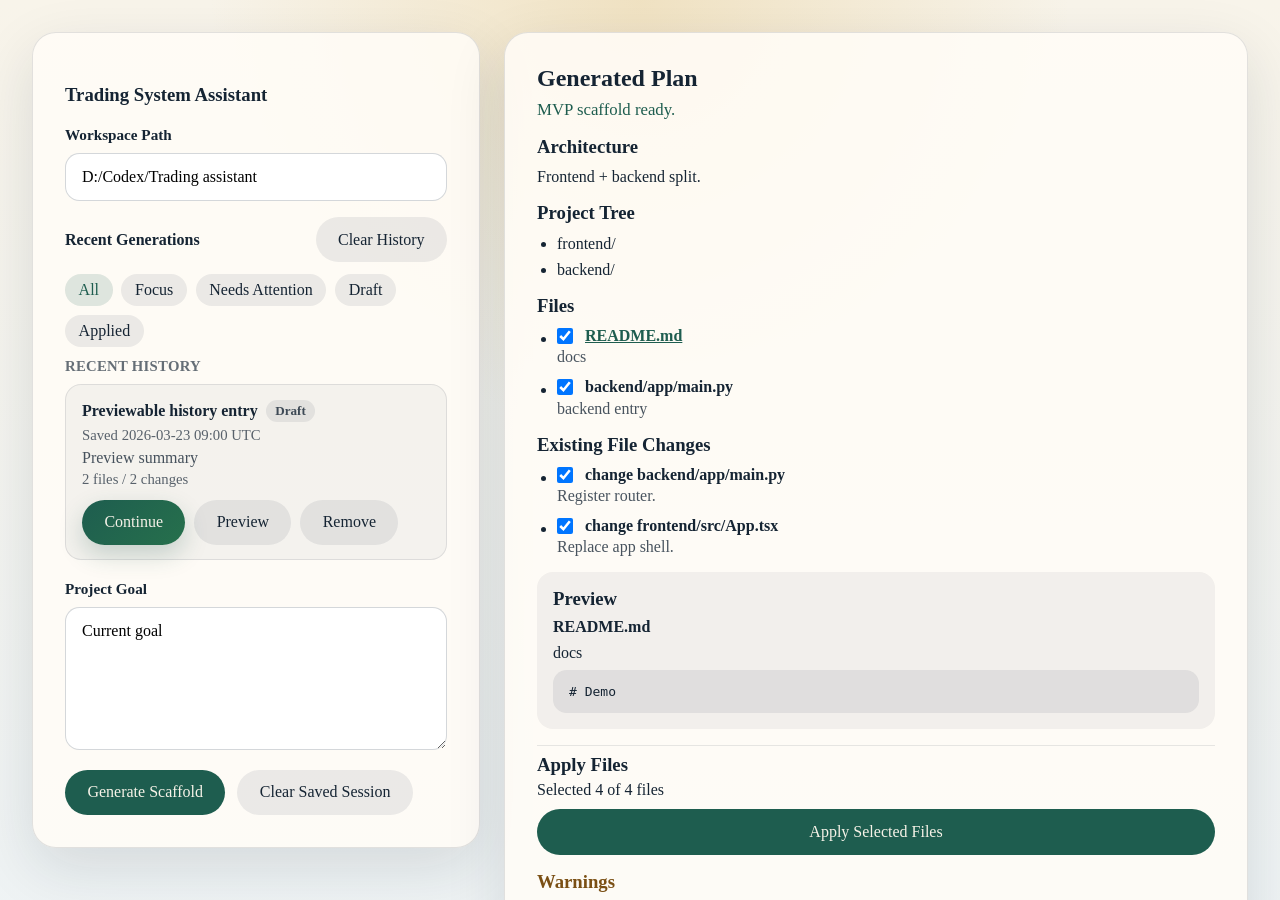
Test: App › shows history action feedback when preview is opened and hidden
Click the button with aria-label "preview previewable history entry" at x=243, y=522, box [194,500,292,545]
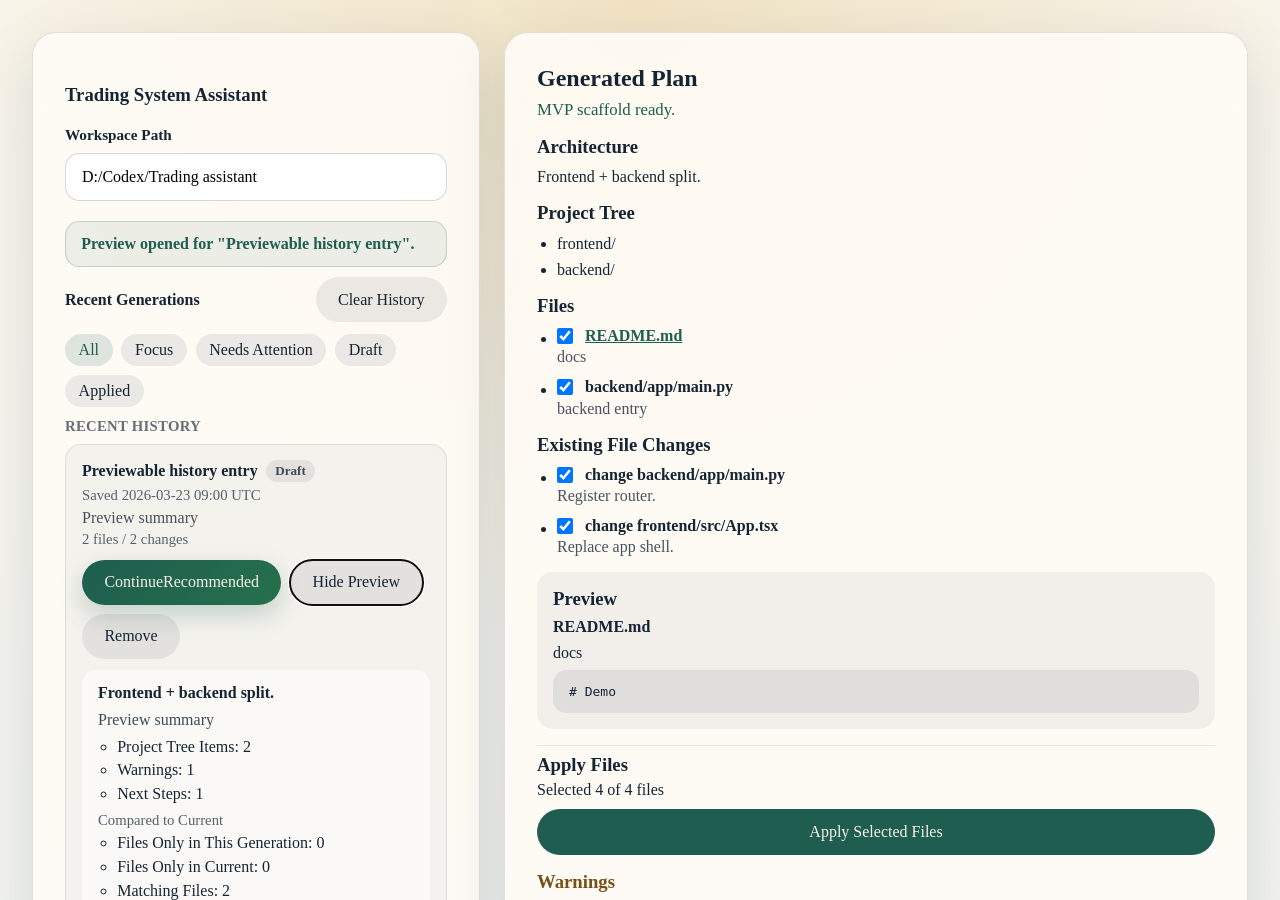
Check: the text "Preview opened for \"Previewable history entry\"." is shown, box [65,221,447,267]
Click the button with aria-label "hide preview previewable history entry" at x=356, y=582, box [290,560,422,605]
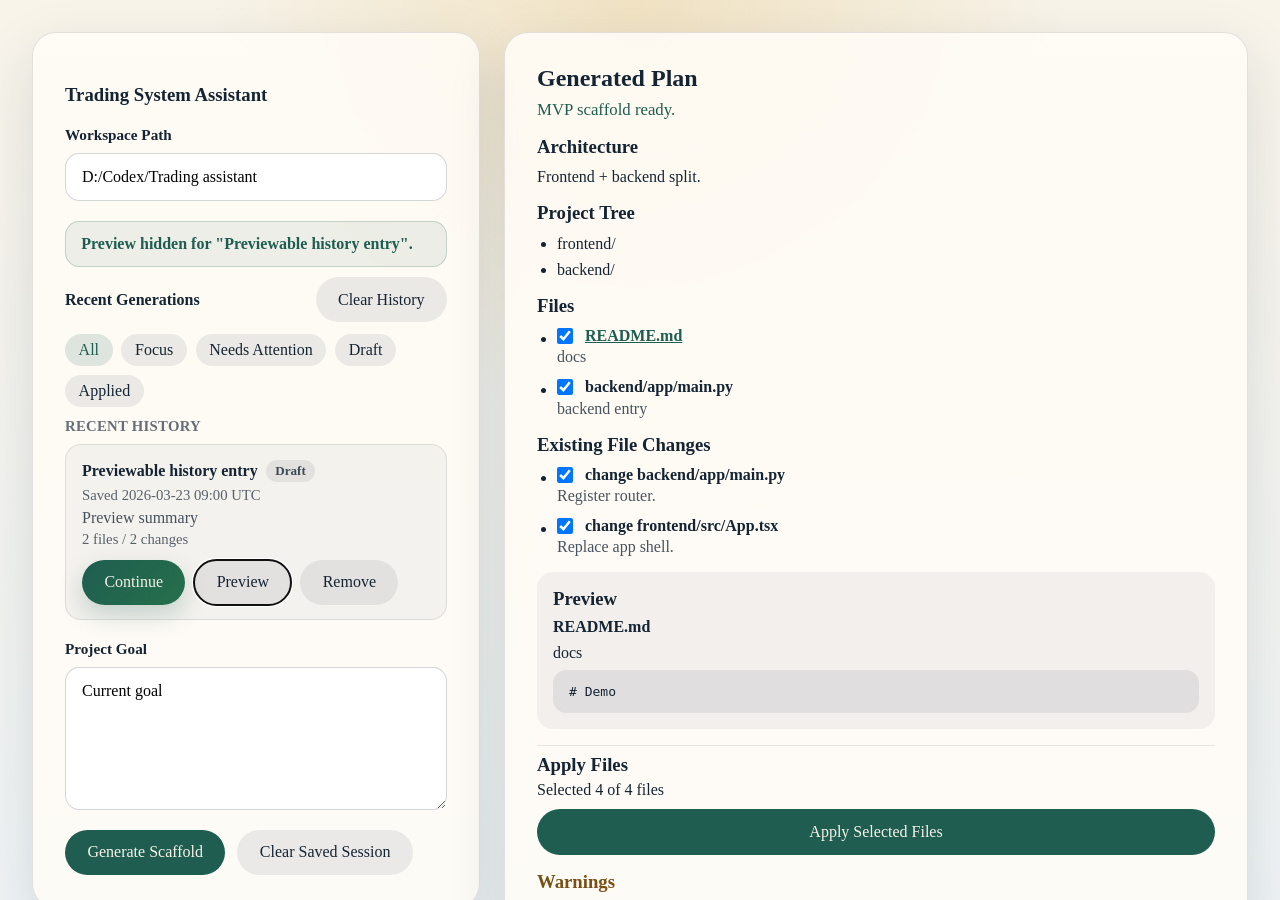
Check: the text "Preview hidden for \"Previewable history entry\"." is shown, box [65,221,447,267]
